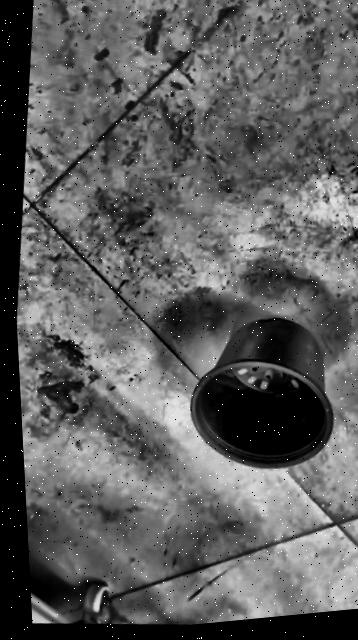pot: (180, 303, 347, 480)
